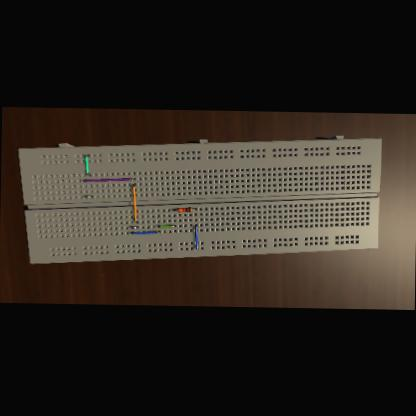breadboard: (15, 130, 380, 270)
resistor: (176, 207, 192, 212)
wire: (132, 184, 139, 222), (82, 178, 134, 183), (131, 230, 160, 236), (84, 155, 90, 175), (195, 224, 198, 249), (158, 225, 175, 228), (84, 196, 92, 198), (130, 226, 137, 228), (192, 208, 196, 210), (174, 210, 176, 211)
